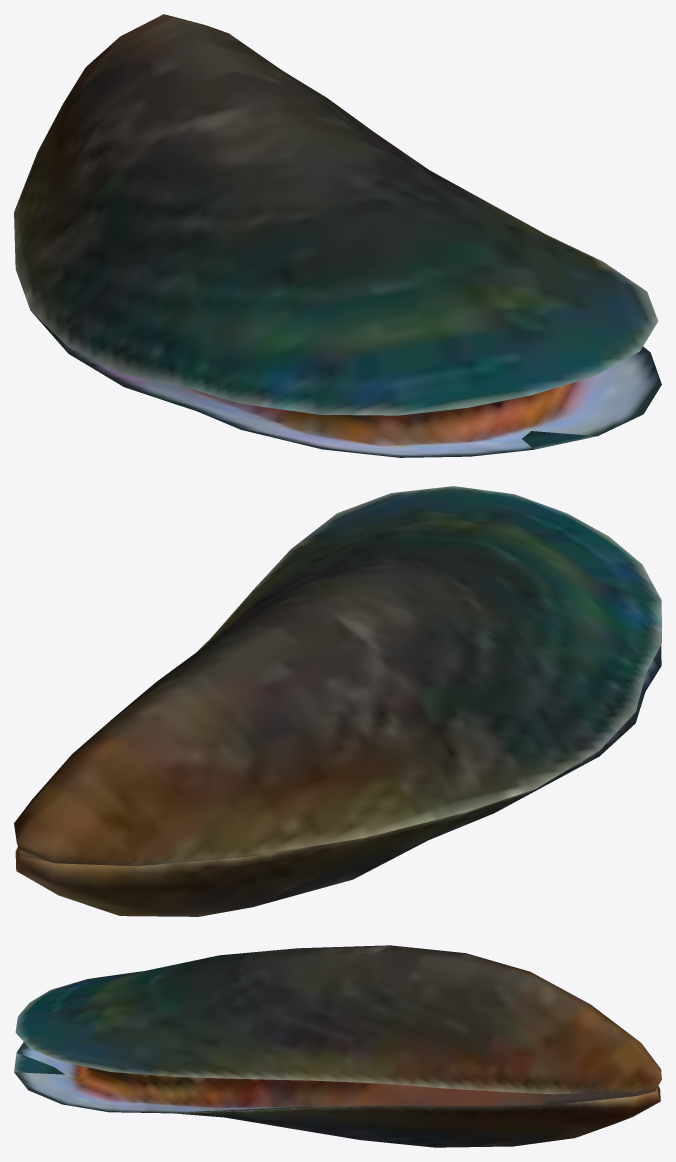
The model's file is mussel.glb.
3 views of the same model, one above another, from view 1: azimuth 30°, elevation 25°; view 2: azimuth 150°, elevation 25°; view 3: azimuth 270°, elevation 25° (orthographic). The views are drawn at different scales.
Bounding box in the file's own units: 1.59 × 0.9933 × 3.08.
Materials: 1 (1 with a texture image).
